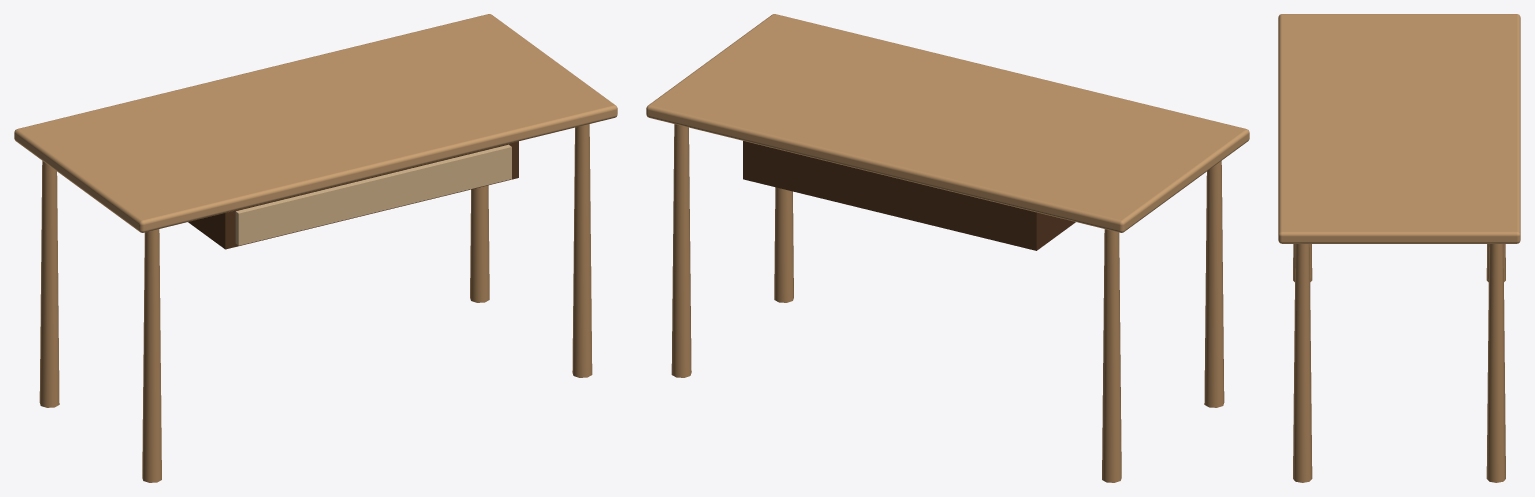
File: desk-lite.glb
3 views of the same model, side by side, from view 1: azimuth 30°, elevation 25°; view 2: azimuth 150°, elevation 25°; view 3: azimuth 270°, elevation 25° (orthographic). The views are drawn at different scales.
Parts seen in each view (by area): view 1: material-0-top, material-3-leg, material-2-drawer, material-1-body; view 2: material-0-top, material-3-leg, material-1-body; view 3: material-0-top, material-3-leg.
Part boxes in pixels (x1=…): material-0-top: x1=14, y1=14, x2=617, y2=232; material-3-leg: x1=39, y1=124, x2=592, y2=482; material-2-drawer: x1=235, y1=144, x2=511, y2=245; material-1-body: x1=188, y1=141, x2=518, y2=249; material-0-top: x1=646, y1=14, x2=1249, y2=232; material-3-leg: x1=671, y1=124, x2=1224, y2=482; material-1-body: x1=743, y1=141, x2=1075, y2=250; material-0-top: x1=1278, y1=14, x2=1520, y2=243; material-3-leg: x1=1293, y1=244, x2=1505, y2=482.
Size of the model in its own units: 1.4 by 0.76 by 0.65.
